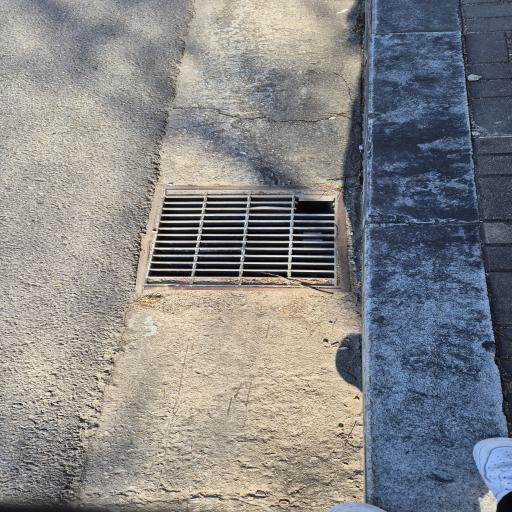drain: (146, 190, 338, 288)
